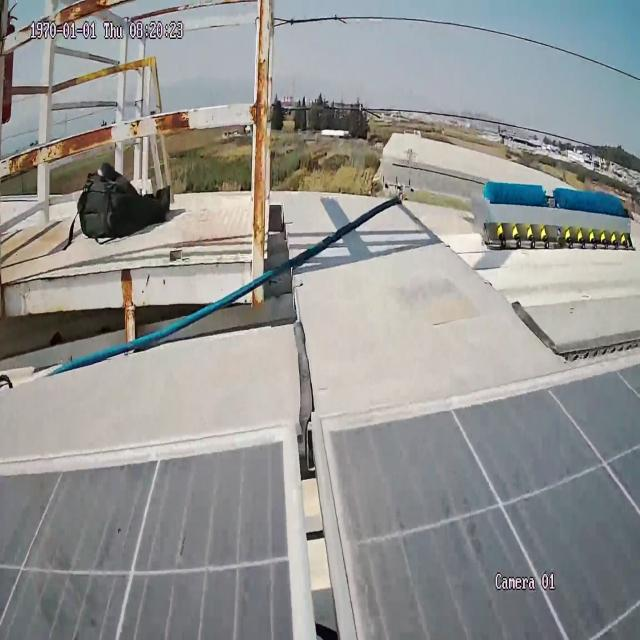interior panel: (254, 400, 387, 640)
